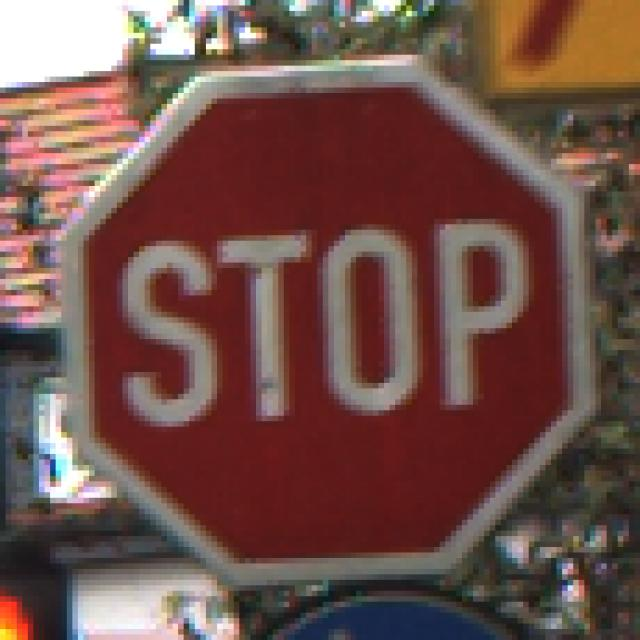STOP: (57, 56, 585, 586)
